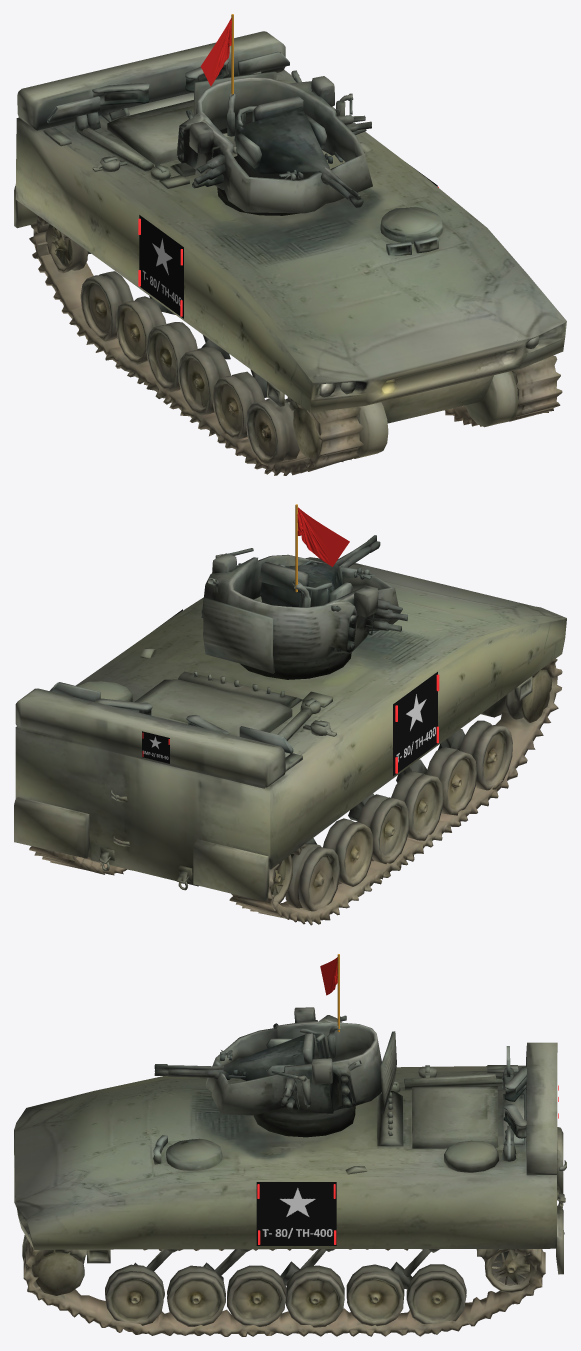
Rendered from 1_x_Live_op4.glb.
The picture shows the model from 3 angles, top to bottom: view 1: azimuth 30°, elevation 25°; view 2: azimuth 150°, elevation 25°; view 3: azimuth 270°, elevation 25°; orthographic projection. The views are drawn at different scales.
Parts seen in each view (by area): view 1: tripo_node_b858fb1a.002, tripo_node_b858fb1a.004, Plane.005, Cylinder.002; view 2: tripo_node_b858fb1a.002, tripo_node_b858fb1a.004, Plane.005, Cylinder.002, Plane.007; view 3: tripo_node_b858fb1a.002, tripo_node_b858fb1a.004, Plane.006, Cylinder.002.
Part boxes in pixels (x1,y1,x2,y2): tripo_node_b858fb1a.002: (14, 31, 566, 475); tripo_node_b858fb1a.004: (176, 70, 372, 215); Plane.005: (138, 215, 183, 318); Cylinder.002: (200, 14, 233, 94); tripo_node_b858fb1a.002: (14, 557, 566, 925); tripo_node_b858fb1a.004: (201, 535, 407, 679); Plane.005: (393, 672, 437, 776); Cylinder.002: (295, 504, 349, 592); Plane.007: (142, 731, 169, 763); tripo_node_b858fb1a.002: (14, 1042, 566, 1336); tripo_node_b858fb1a.004: (154, 1007, 396, 1137); Plane.006: (256, 1182, 336, 1245); Cylinder.002: (320, 954, 339, 1032).
Bounding box in the file's own units: 1.36 × 1.76 × 2.8.
7 materials, 4 textured.
